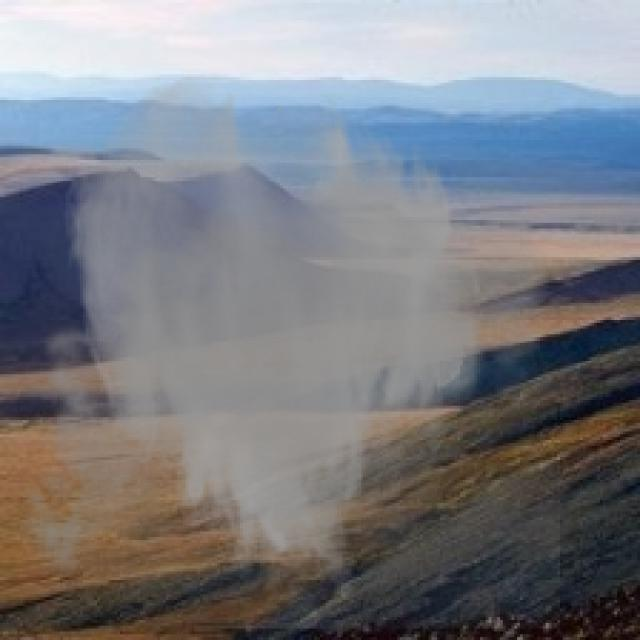Smoke: (6, 71, 560, 628)
